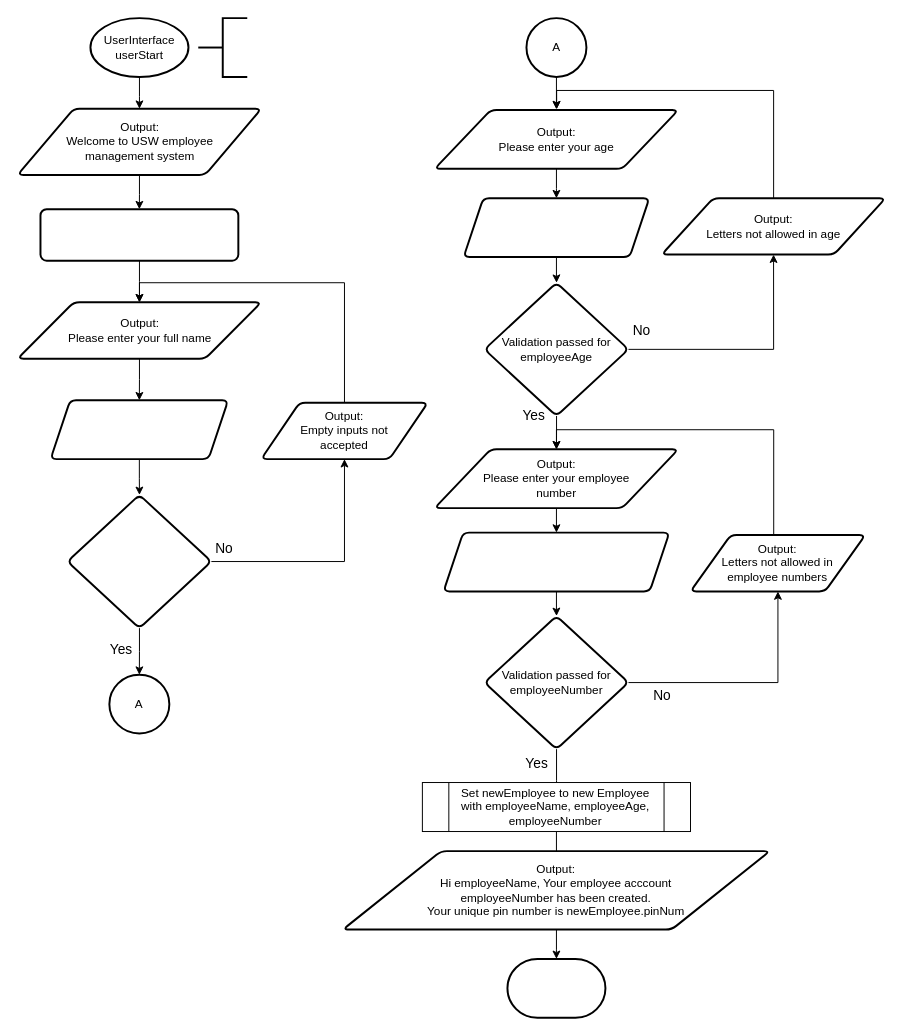
Image size: 904x1035. Some labels were removed from this diagram. Each missing label, with the centre of its shape:
Declare: employeeName, employeeAge, employeeNumber: point (139, 234)
End: point (556, 987)
Has arguments: name employeeNumber employeeAge: point (222, 47)
Input: Assign to employeeAge: point (556, 227)
Input: Assign to employeeName: point (139, 429)
Input: Assign to employeeNumber: point (556, 561)
Validation passed for employeeName: point (139, 561)
